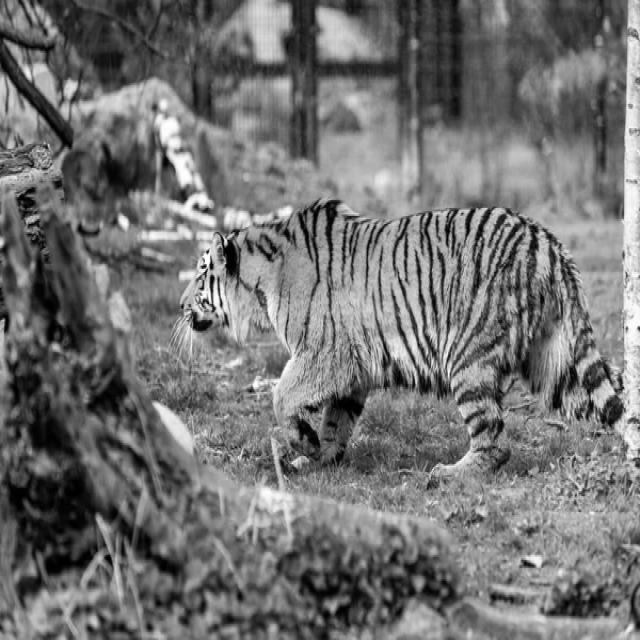Animal: (181, 198, 623, 477)
